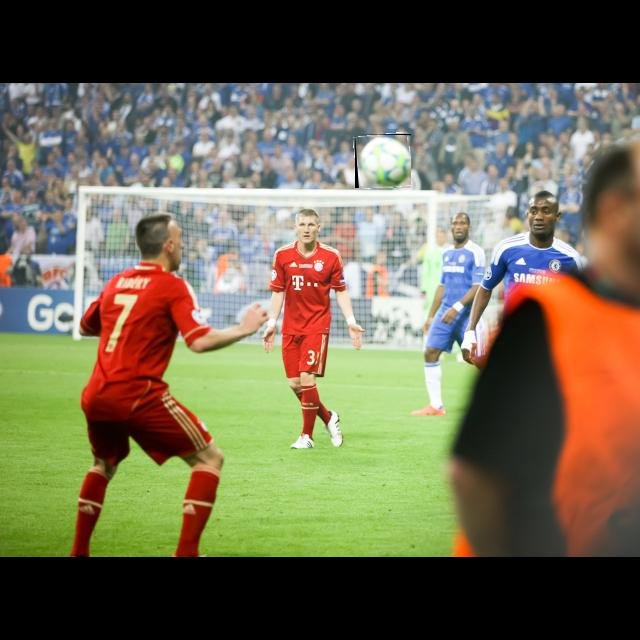Football: (355, 134, 411, 188)
